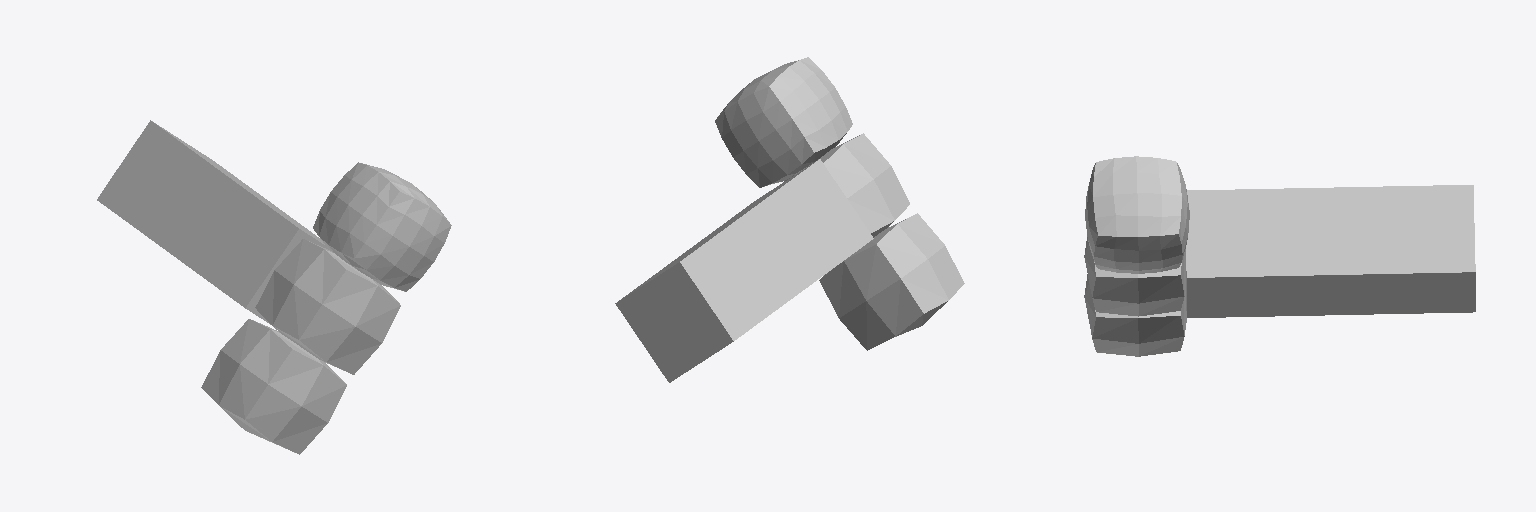
The model's file is objt.obj.
The picture shows the model from 3 angles: view 1: azimuth 30°, elevation 25°; view 2: azimuth 150°, elevation 25°; view 3: azimuth 270°, elevation 25°; orthographic projection.
Parts seen in each view (by area): view 1: Object.4, Object.2, Object.3, Object.6, Object.1, Object.5; view 2: Object.1, Object.4, Object.3, Object.5, Object.6, Object.2; view 3: Object.1, Object.5, Object.6, Object.3, Object.2, Object.4.
Boxes of the visible parts, <box> form: Object.4: <box>201,319,346,454</box>; Object.2: <box>255,239,400,374</box>; Object.3: <box>313,162,451,291</box>; Object.6: <box>196,193,328,324</box>; Object.1: <box>97,120,258,235</box>; Object.5: <box>147,157,310,271</box>; Object.1: <box>615,228,779,382</box>; Object.4: <box>819,213,964,350</box>; Object.3: <box>715,57,852,187</box>; Object.5: <box>664,193,826,306</box>; Object.6: <box>713,159,873,272</box>; Object.2: <box>784,133,909,237</box>; Object.1: <box>1377,185,1475,313</box>; Object.5: <box>1281,187,1378,315</box>; Object.6: <box>1186,189,1282,317</box>; Object.3: <box>1085,156,1189,273</box>; Object.2: <box>1084,237,1185,316</box>; Object.4: <box>1084,274,1186,356</box>.
Bounding box in the file's own units: 105 × 114 × 162.